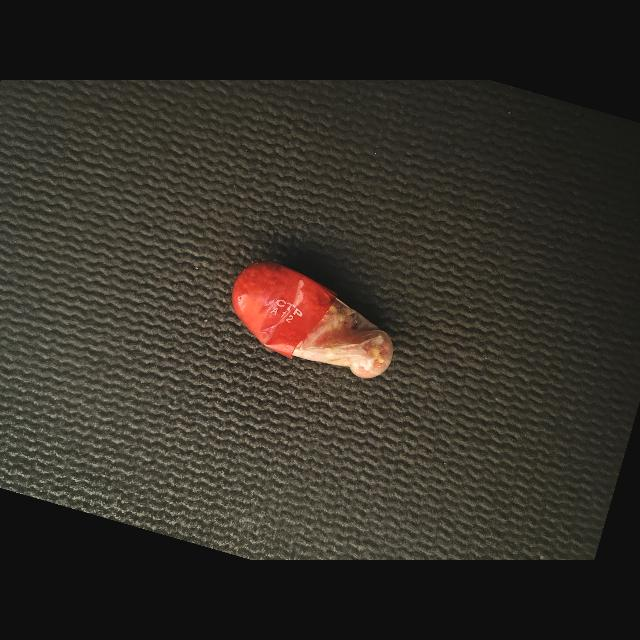Defective Capsule: (232, 262, 393, 379)
